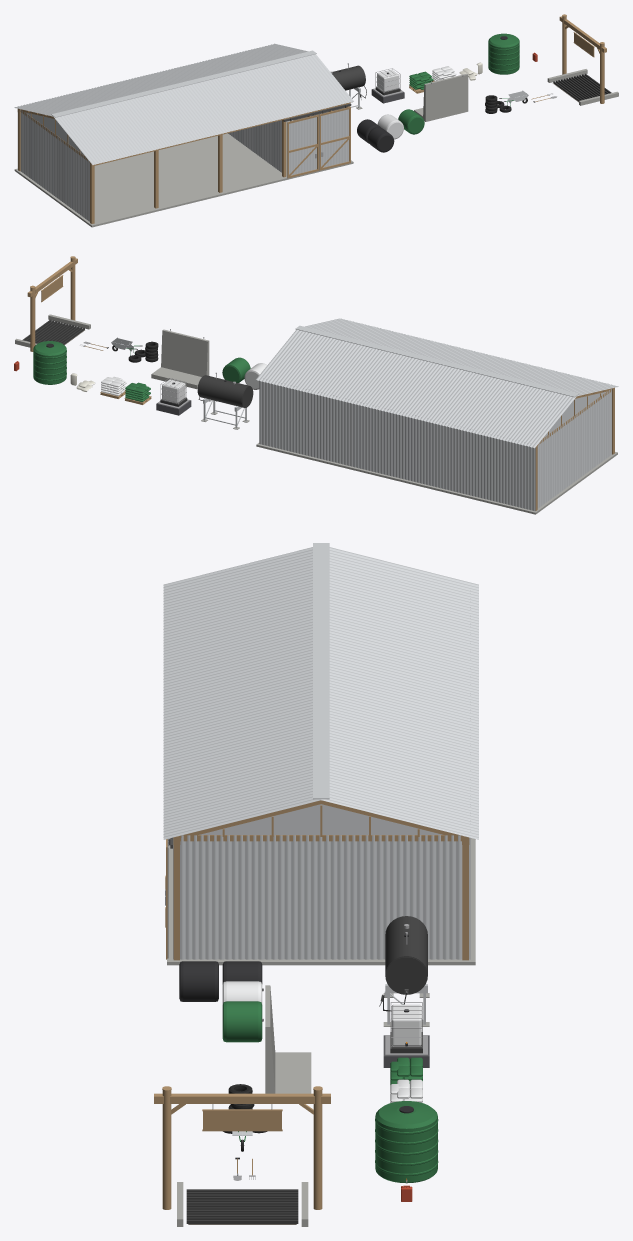
The model's file is farmyard_props.glb.
3 renders of one model, top to bottom at view 1: azimuth 30°, elevation 25°; view 2: azimuth 150°, elevation 25°; view 3: azimuth 270°, elevation 25°, orthographic. The views are drawn at different scales.
Parts seen in each view (by area): view 1: pole_barn, barn_door_left_slide, barn_door_right_slide, silage_clamp_wall, cattle_grid, poly_water_tank, farm_entrance, chemical_ibc, wrapped_bale_black, diesel_tank, wrapped_bale_green, wrapped_bale_white (+2 smaller); view 2: pole_barn, silage_clamp_wall, diesel_tank, poly_water_tank, farm_entrance, cattle_grid, chemical_ibc, wrapped_bale_green, seed_bag_pallet, fertiliser_bag_pallet, tyre_stack; view 3: pole_barn, farm_entrance, poly_water_tank, cattle_grid, diesel_tank, silage_clamp_wall, wrapped_bale_black, chemical_ibc, wrapped_bale_green.
Part boxes in pixels (bbox=[...]): pole_barn: bbox=[14, 43, 353, 227]; barn_door_left_slide: bbox=[287, 112, 318, 178]; barn_door_right_slide: bbox=[319, 104, 350, 170]; silage_clamp_wall: bbox=[414, 73, 468, 121]; cattle_grid: bbox=[547, 69, 618, 105]; poly_water_tank: bbox=[488, 33, 519, 74]; farm_entrance: bbox=[559, 14, 606, 103]; chemical_ibc: bbox=[371, 68, 404, 103]; wrapped_bale_black: bbox=[357, 119, 394, 152]; diesel_tank: bbox=[330, 63, 366, 109]; wrapped_bale_green: bbox=[398, 109, 424, 134]; wrapped_bale_white: bbox=[377, 114, 403, 139]; pole_barn: bbox=[256, 318, 618, 514]; silage_clamp_wall: bbox=[151, 329, 209, 389]; diesel_tank: bbox=[197, 372, 253, 429]; poly_water_tank: bbox=[33, 341, 66, 384]; farm_entrance: bbox=[27, 256, 77, 351]; cattle_grid: bbox=[15, 314, 90, 347]; chemical_ibc: bbox=[156, 378, 191, 415]; wrapped_bale_green: bbox=[222, 357, 250, 382]; seed_bag_pallet: bbox=[124, 382, 151, 404]; fertiliser_bag_pallet: bbox=[100, 376, 126, 398]; tyre_stack: bbox=[128, 341, 158, 362]; pole_barn: bbox=[163, 543, 478, 965]; farm_entrance: bbox=[154, 1086, 330, 1209]; poly_water_tank: bbox=[375, 1101, 438, 1183]; cattle_grid: bbox=[177, 1182, 308, 1226]; diesel_tank: bbox=[379, 916, 429, 1026]; silage_clamp_wall: bbox=[262, 985, 311, 1093]; wrapped_bale_black: bbox=[179, 961, 262, 1001]; chemical_ibc: bbox=[383, 1002, 429, 1067]; wrapped_bale_green: bbox=[222, 1001, 262, 1042].
Bounding box in the file's own units: 37.25 × 5.62 × 9.91.
Materials: 17 (17 with a texture image).
